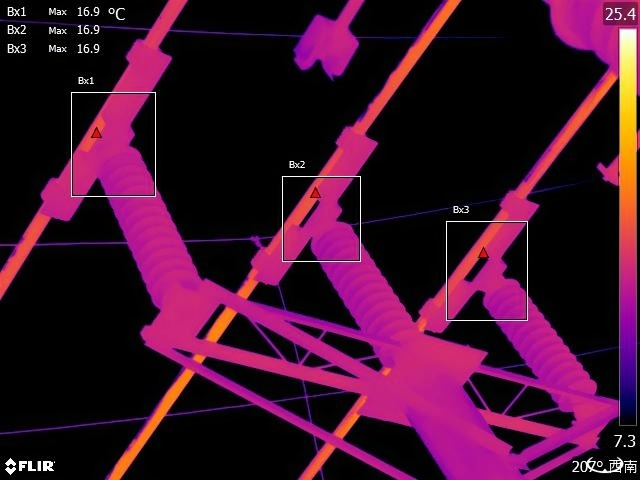post insulator: (474, 271, 602, 411), (101, 142, 197, 301), (310, 208, 409, 352)
